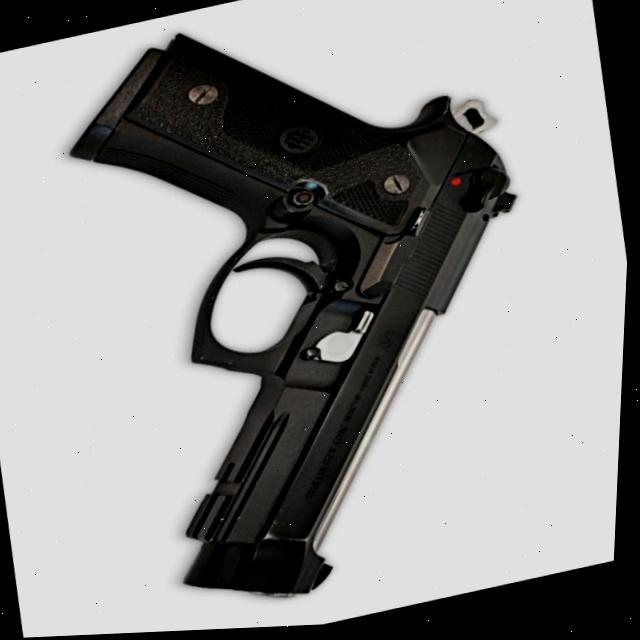gun: (36, 0, 590, 638)
